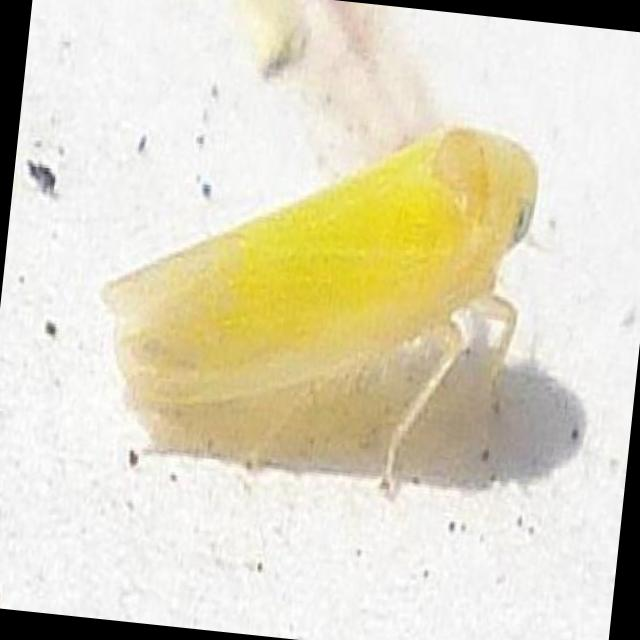green-leafhopper: (82, 72, 546, 511)
